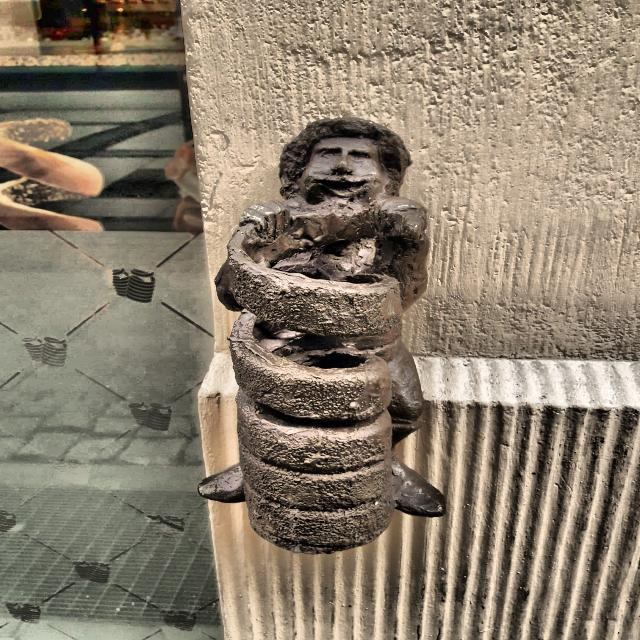Czimnejek: (192, 113, 459, 559)
